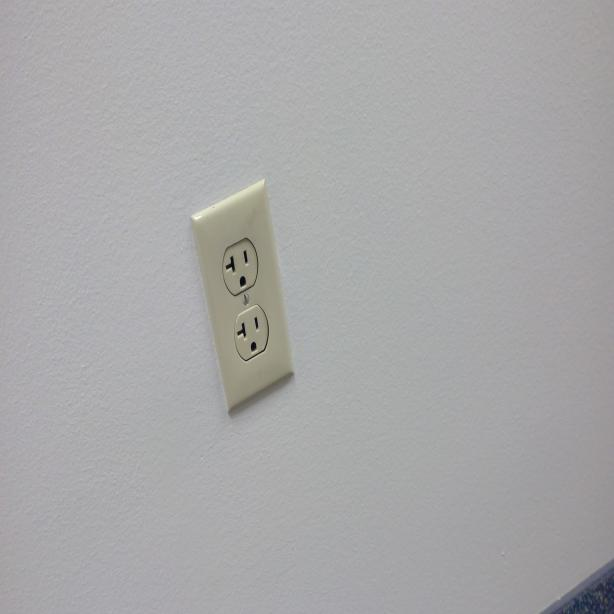typeb: (222, 235, 263, 292), (233, 307, 268, 359)
